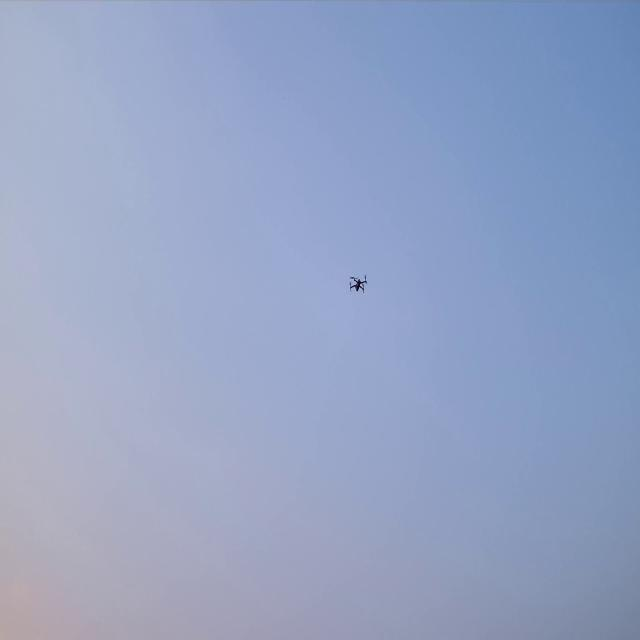UAV: (347, 272, 368, 294)
